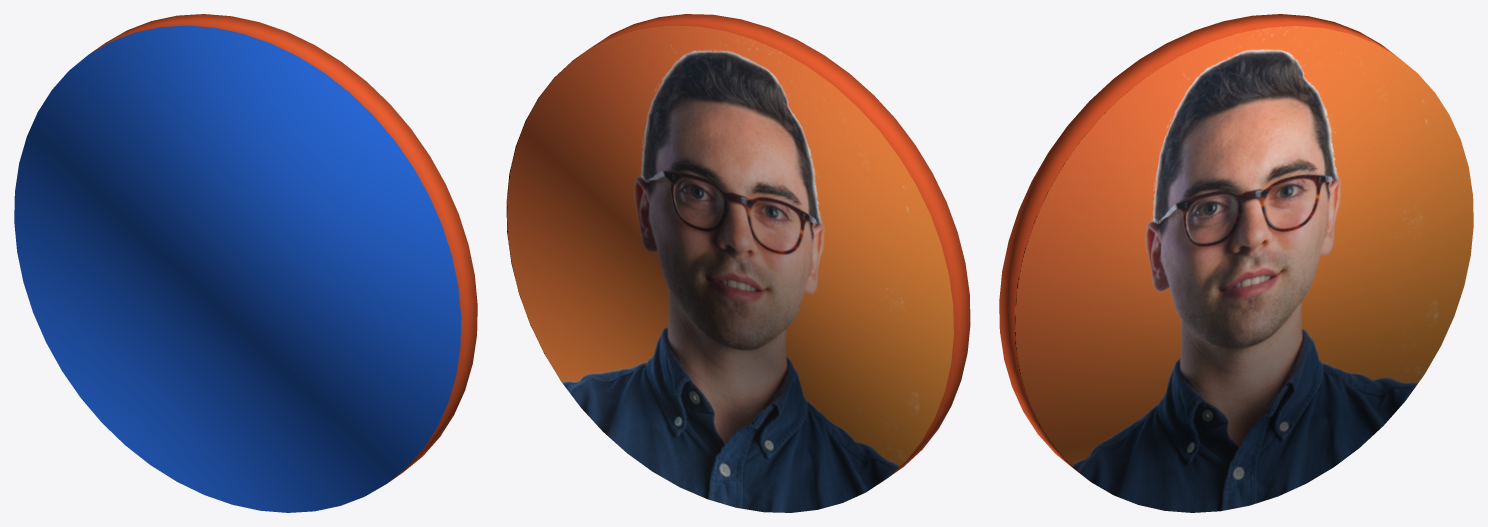
File: PortraitCoin.glb
3 views of the same model, side by side, from view 1: azimuth 30°, elevation 25°; view 2: azimuth 210°, elevation 25°; view 3: azimuth 270°, elevation 25° (orthographic).
Parts seen in each view (by area): view 1: Circle; view 2: Circle; view 3: Circle.
Part boxes in pixels (x1=…): Circle: x1=14, y1=14, x2=477, y2=512; Circle: x1=506, y1=14, x2=970, y2=512; Circle: x1=999, y1=14, x2=1473, y2=512.
Bounding box in the file's own units: 2.38 × 4.44 × 4.02.
Materials: 3 (1 with a texture image).
